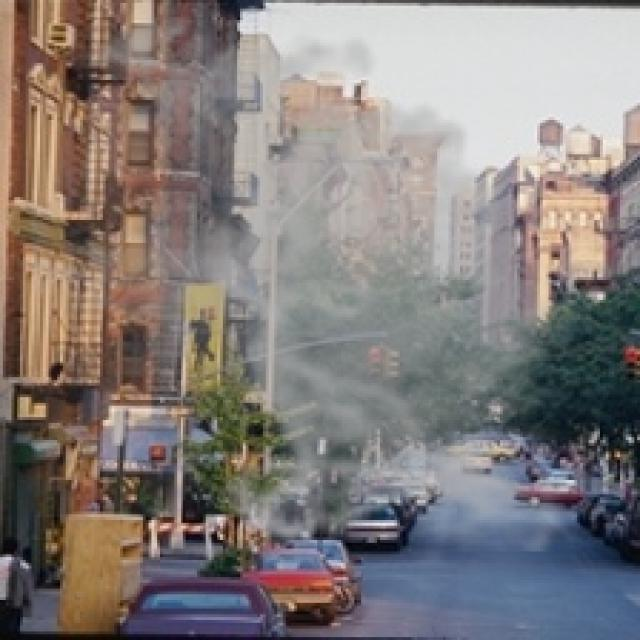smoke: (31, 0, 592, 552)
